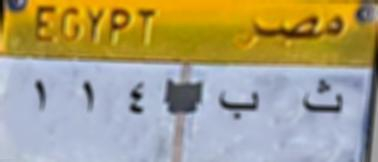1: (20, 74, 59, 117), (70, 80, 107, 116)
4: (118, 75, 156, 125)
baa: (215, 87, 270, 124)
thaa: (294, 76, 350, 116)
